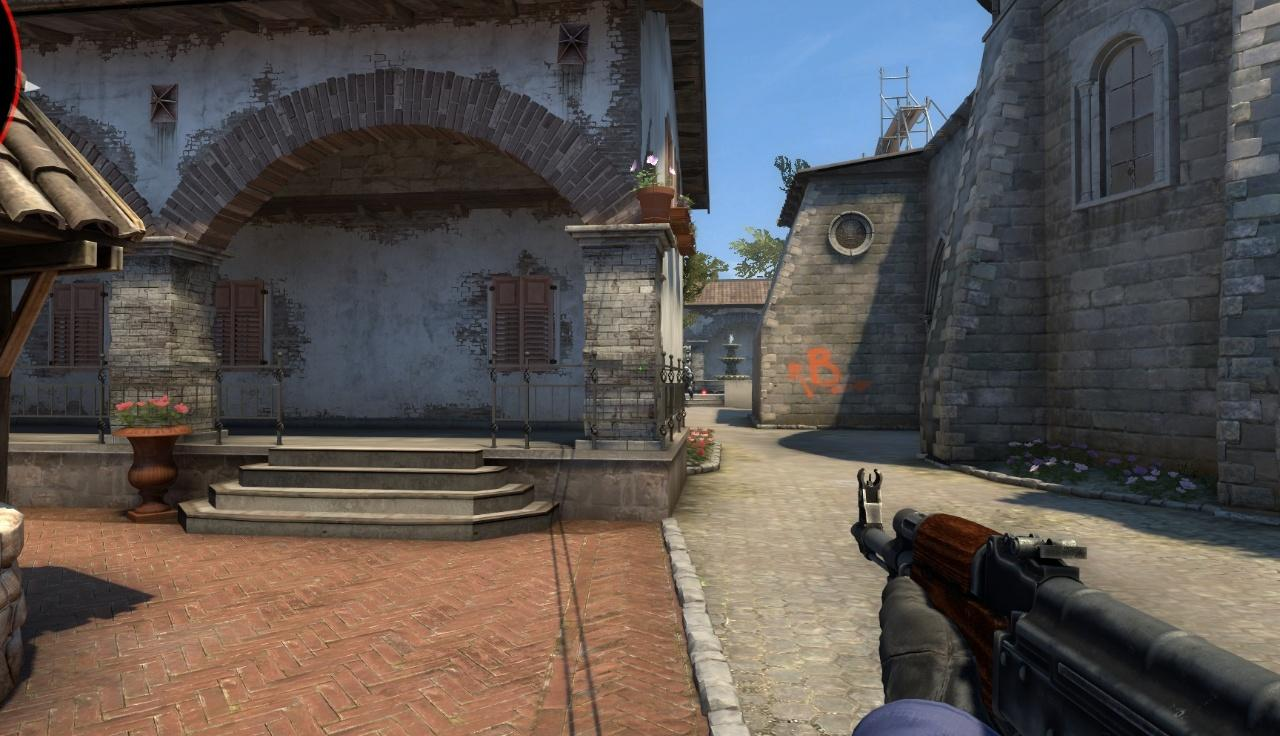ct: (682, 365, 694, 401)
cthead: (684, 366, 689, 373)
rifle: (850, 467, 1279, 733)
